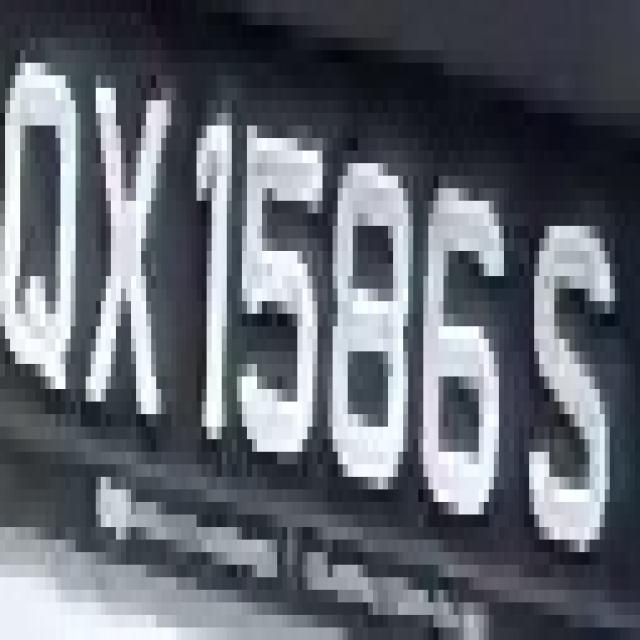1: (191, 76, 227, 490)
5: (237, 76, 327, 490)
6: (413, 138, 504, 602)
8: (318, 126, 413, 514)
Q: (5, 0, 86, 427)
S: (529, 201, 620, 590)
X: (96, 50, 161, 452)
